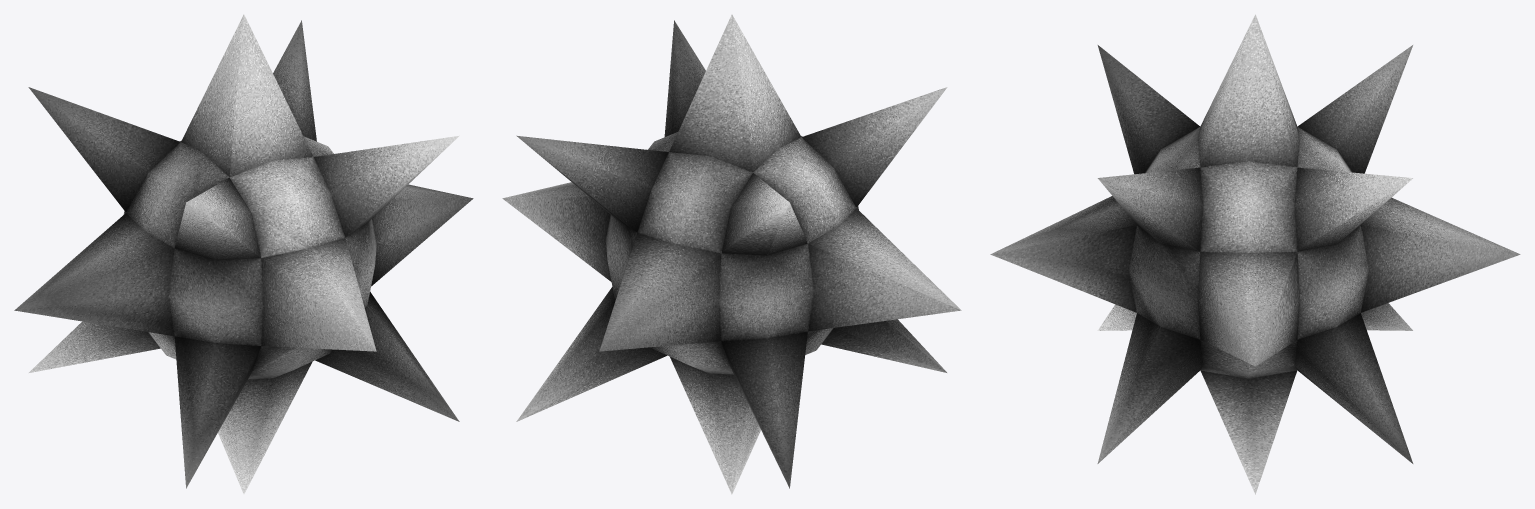
The model's file is spikeball_flipnormals.obj.
3 renders of one model, left to right at view 1: azimuth 30°, elevation 25°; view 2: azimuth 150°, elevation 25°; view 3: azimuth 270°, elevation 25°, orthographic.
Parts seen in each view (by area): view 1: Cube; view 2: Cube; view 3: Cube.
Boxes of the visible parts, box(x1,y1,x2,y2) form: Cube: box(14, 14, 473, 494); Cube: box(502, 14, 961, 494); Cube: box(990, 14, 1520, 494).
Bounding box in the file's own units: 3.46 × 3.46 × 3.46.
1 material, 1 textured.
